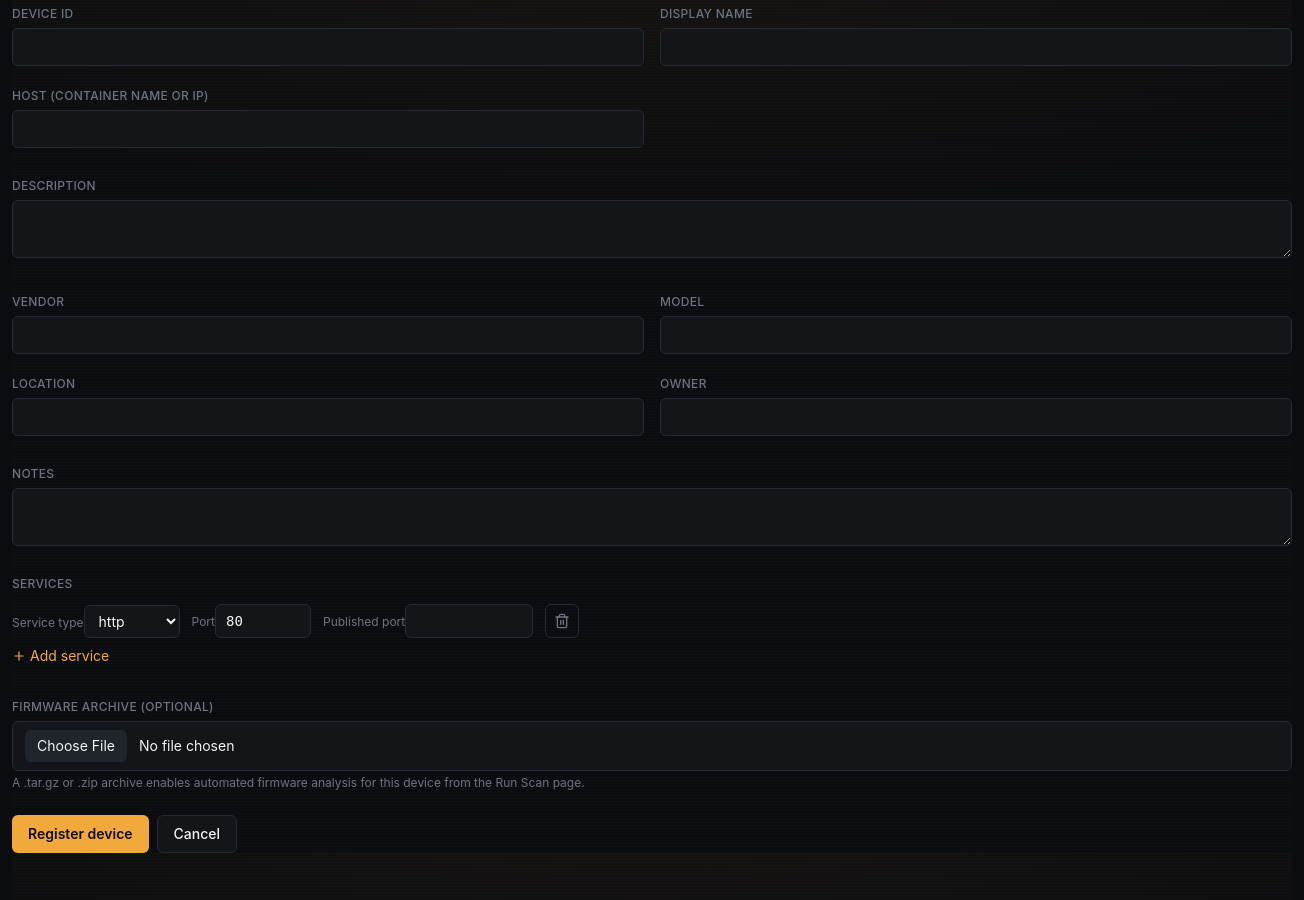
Scenario: RegisterDeviceForm › shows the API error against the field that caused it
Type "bad" into the field labelled "Device ID" at {"x": 328, "y": 47}, box [12,28,644,66]
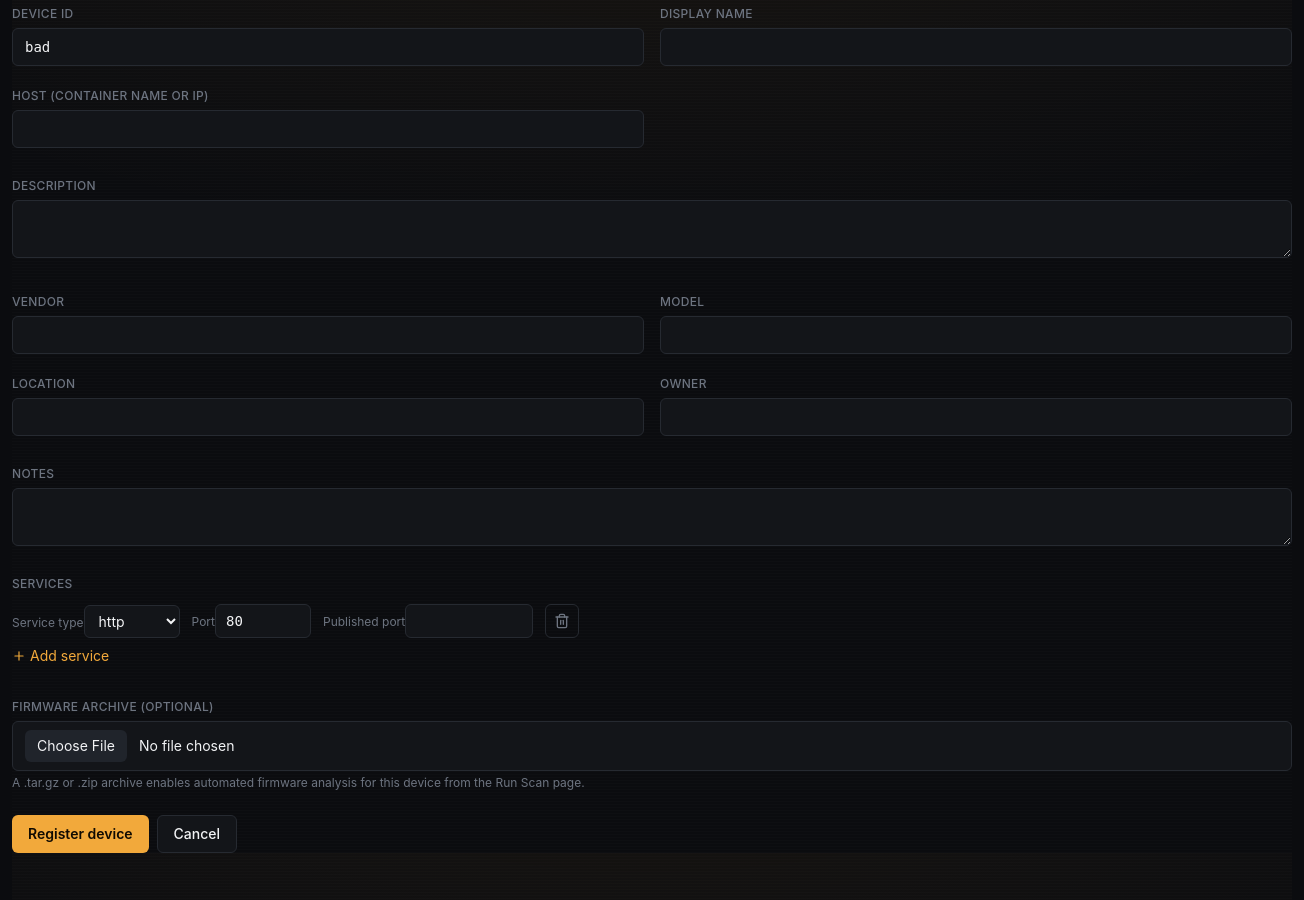
Type "Bad" into the field labelled "Display name" at {"x": 976, "y": 47}, box [660,28,1292,66]
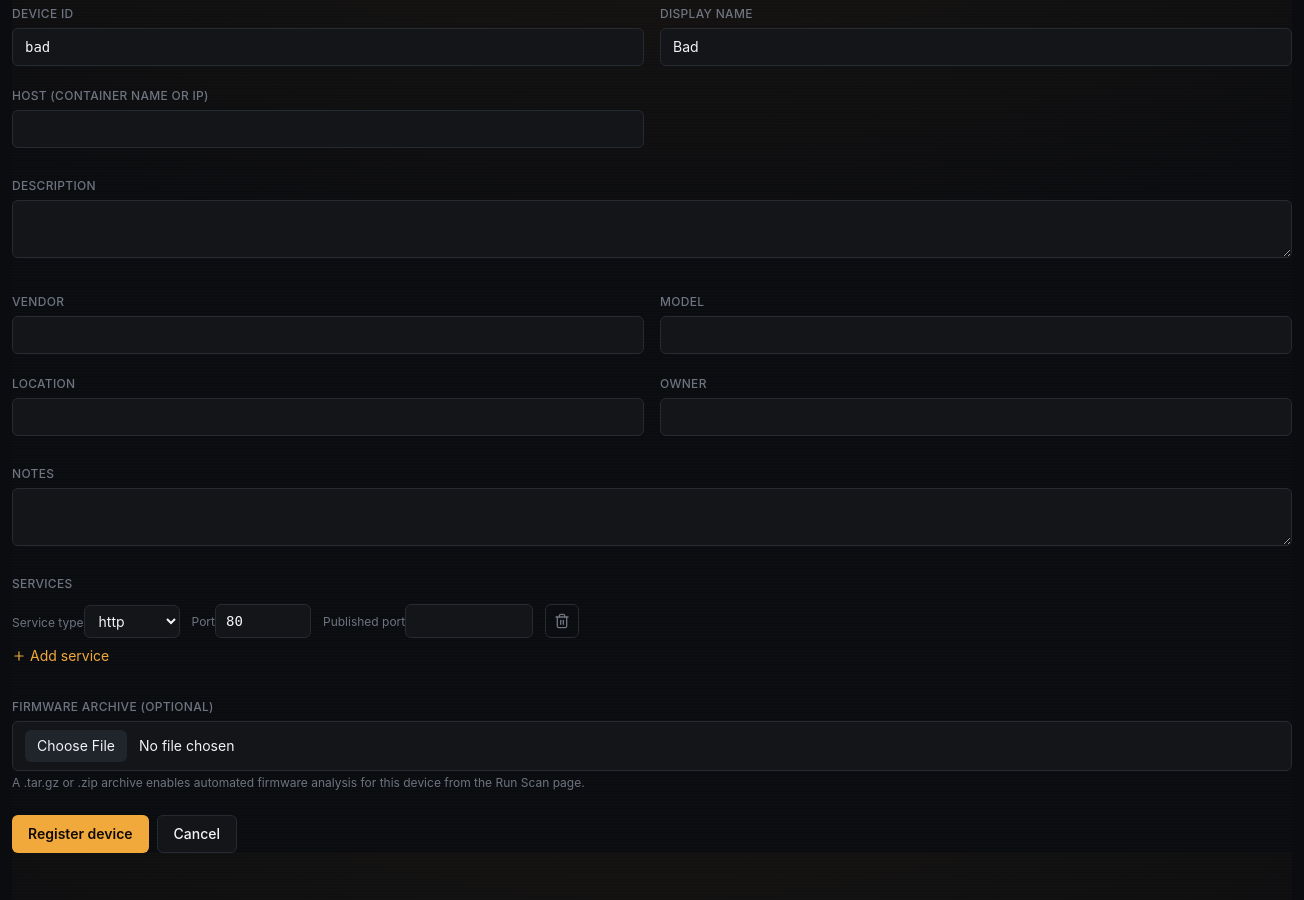
Type "10.0.0.5" into the field labelled "Host (container name or IP)" at {"x": 328, "y": 129}, box [12,110,644,148]
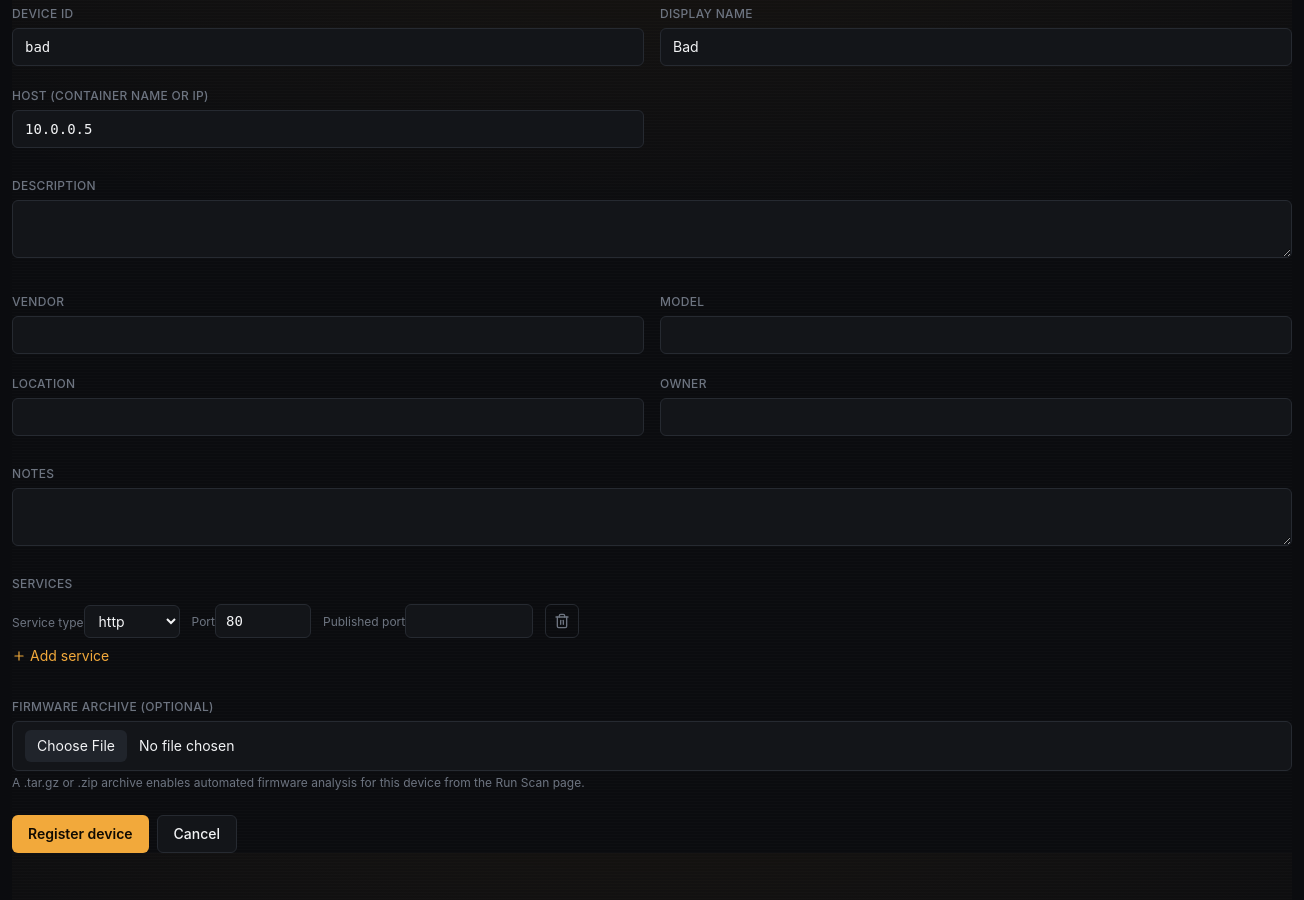
Click the button "Register device" at {"x": 80, "y": 834}, box [12,815,149,853]
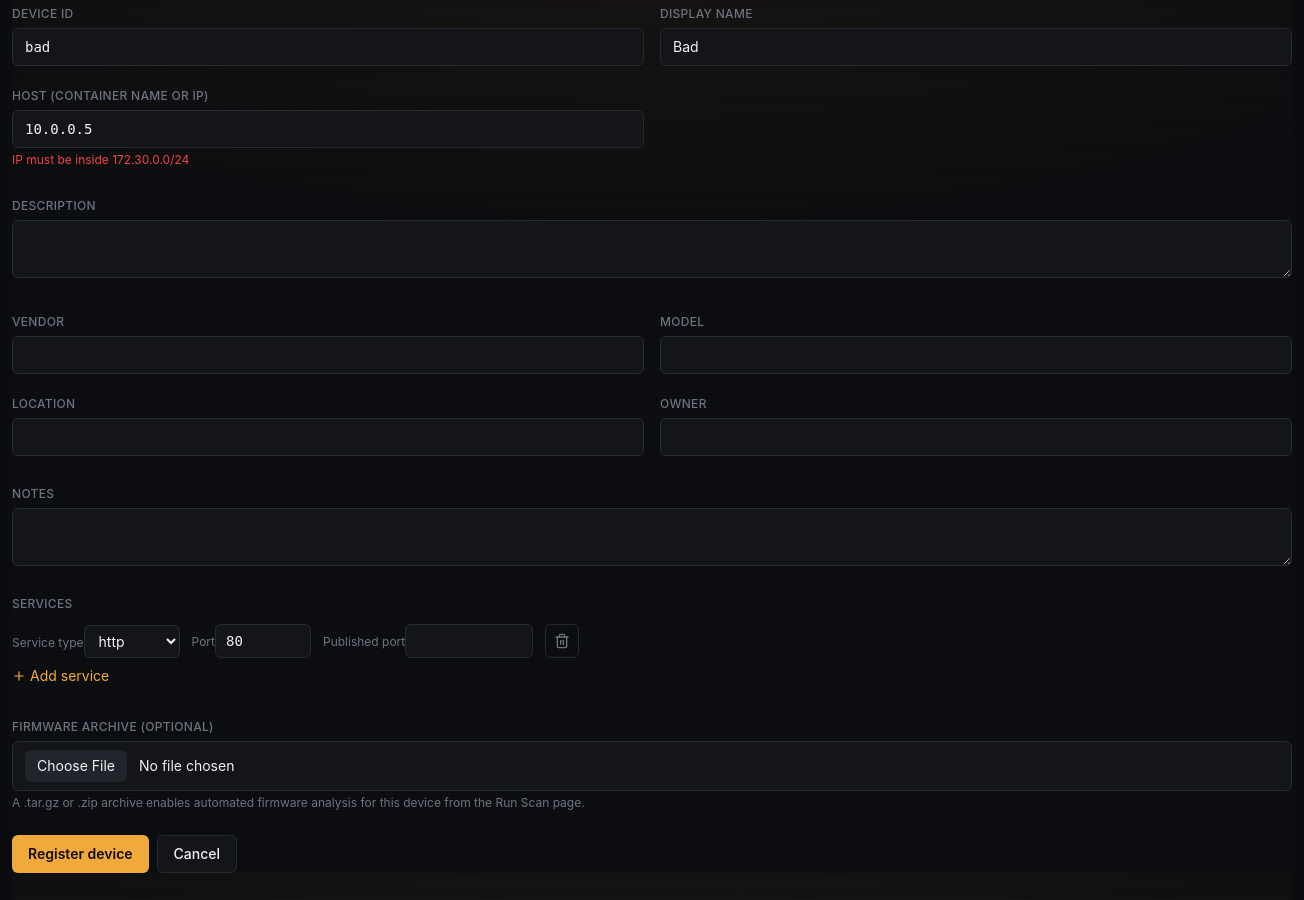
Now the text "IP must be inside 172.30.0.0/24" is shown, box [12,152,189,167]
